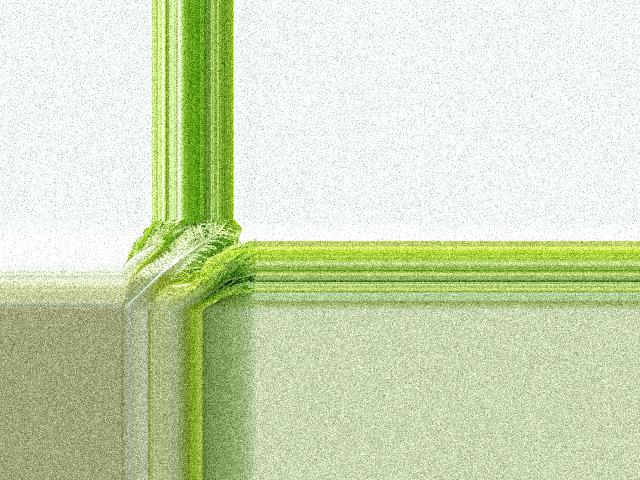lettuce: (121, 220, 258, 309)
